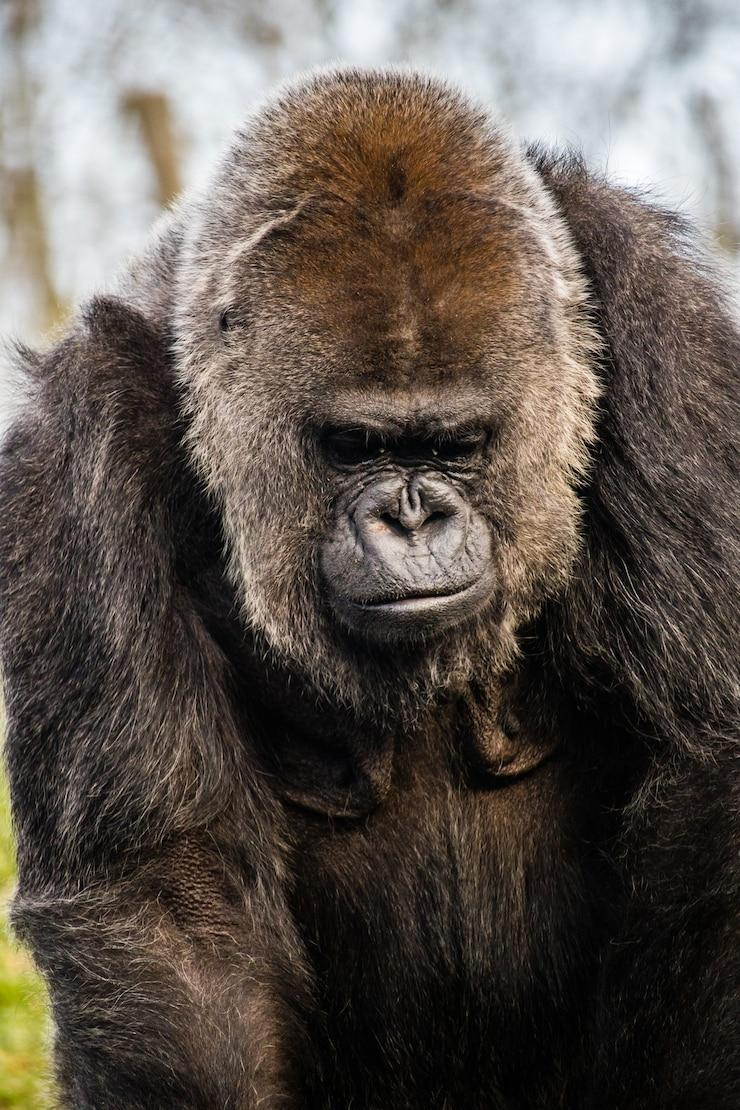gorille_Autres: (7, 4, 740, 1110)
